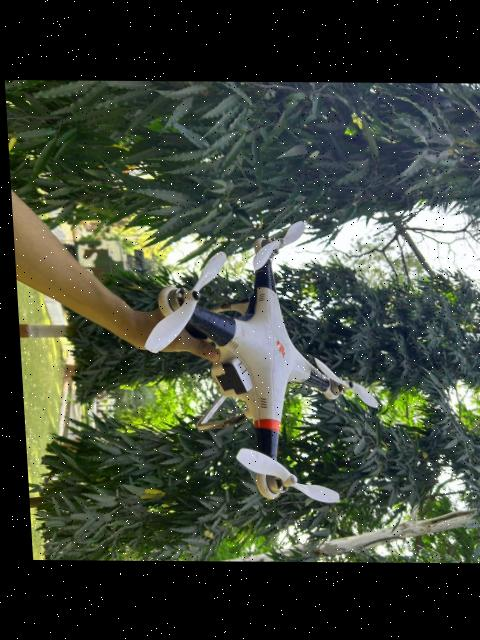drone: (119, 201, 398, 520)
